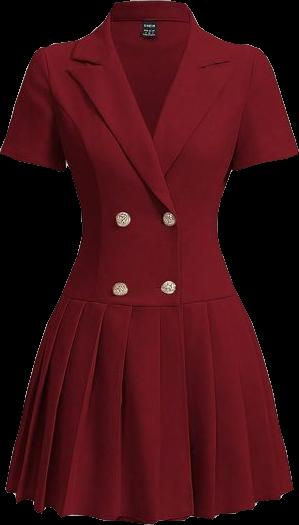Bodice: (39, 1, 256, 307)
Hemline: (3, 484, 295, 524)
Neckline: (106, 8, 192, 142)
Skirt: (5, 294, 293, 523)
Sleeve: (0, 49, 67, 170), (233, 49, 298, 170)
Sleeveline: (38, 47, 70, 163), (230, 47, 260, 167)
Waistline: (59, 292, 240, 313)
